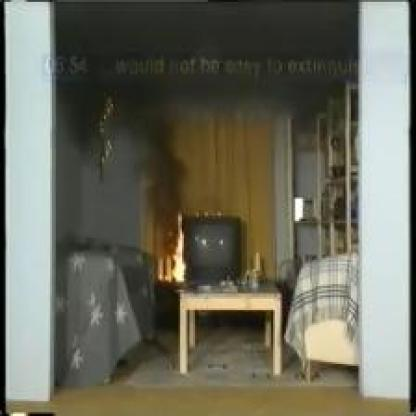fire: (167, 194, 198, 291)
